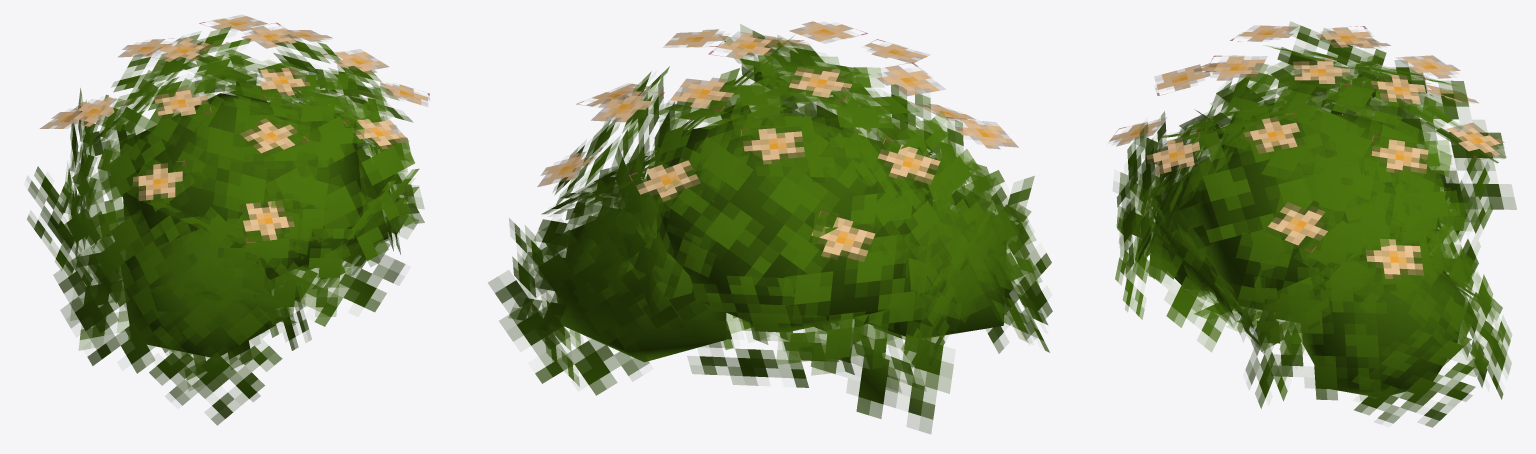
The model's file is shrub_elder.glb.
The picture shows the model from 3 angles, left to right: view 1: azimuth 30°, elevation 25°; view 2: azimuth 150°, elevation 25°; view 3: azimuth 270°, elevation 25°; orthographic projection. The views are drawn at different scales.
Visible parts, largest first — view 1: shrub_elder_Leaf_Dark, shrub_elder_Core_Dark, shrub_elder_Bloom_Cream; view 2: shrub_elder_Leaf_Dark, shrub_elder_Core_Dark, shrub_elder_Bloom_Cream; view 3: shrub_elder_Leaf_Dark, shrub_elder_Core_Dark, shrub_elder_Bloom_Cream.
Boxes of the visible parts, box(x1,y1,x2,y2) form: shrub_elder_Leaf_Dark: box(27, 26, 424, 425); shrub_elder_Core_Dark: box(120, 93, 388, 357); shrub_elder_Bloom_Cream: box(40, 15, 429, 242); shrub_elder_Leaf_Dark: box(488, 24, 1052, 433); shrub_elder_Core_Dark: box(556, 112, 1006, 362); shrub_elder_Bloom_Cream: box(537, 21, 1018, 261); shrub_elder_Leaf_Dark: box(1115, 21, 1516, 427); shrub_elder_Core_Dark: box(1151, 112, 1465, 395); shrub_elder_Bloom_Cream: box(1109, 25, 1504, 278).
Bounding box in the file's own units: 2.97 × 2.26 × 2.52.
Materials: 3 (2 with a texture image).
